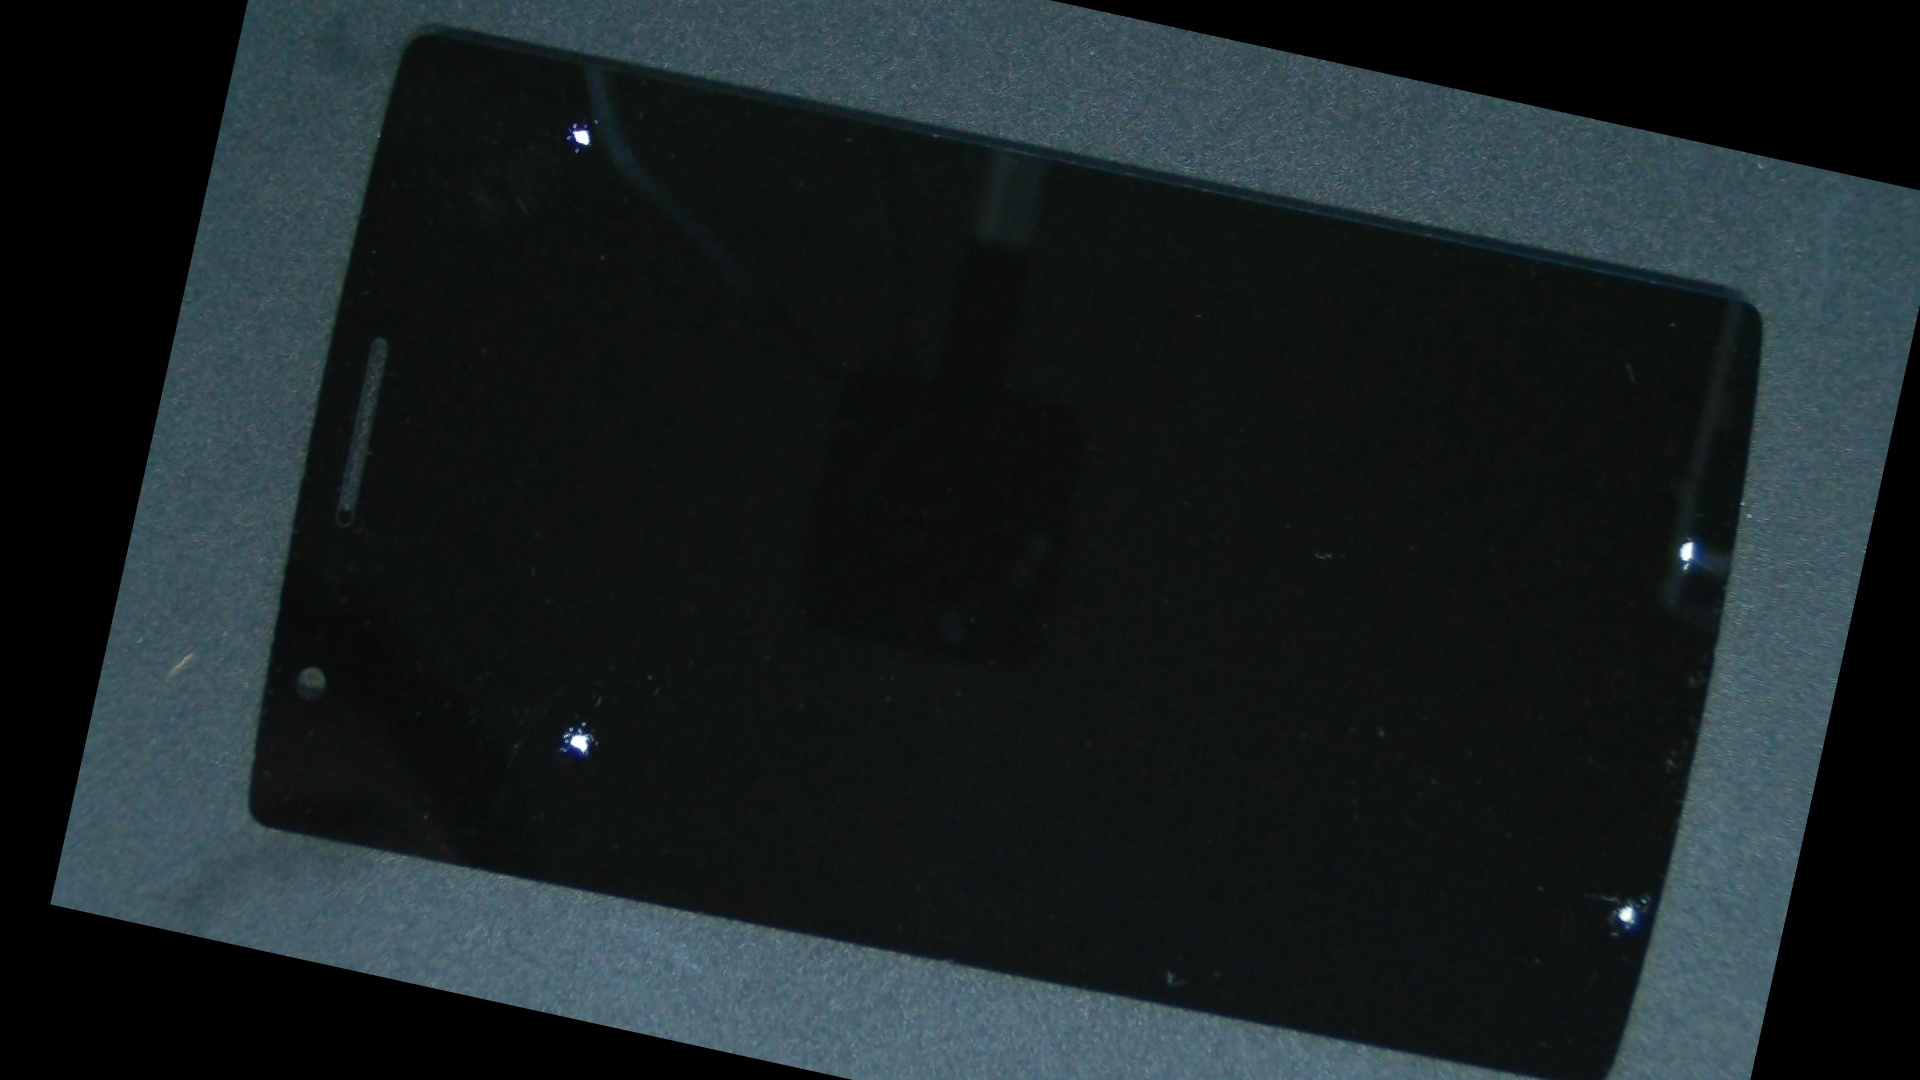oil: (811, 363, 1865, 1080), (905, 183, 1903, 764), (285, 277, 903, 1059), (394, 0, 796, 264), (384, 0, 767, 266)
